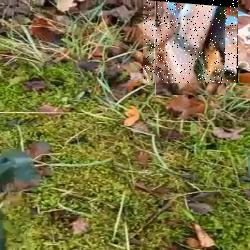restaffald: (143, 0, 238, 83)
